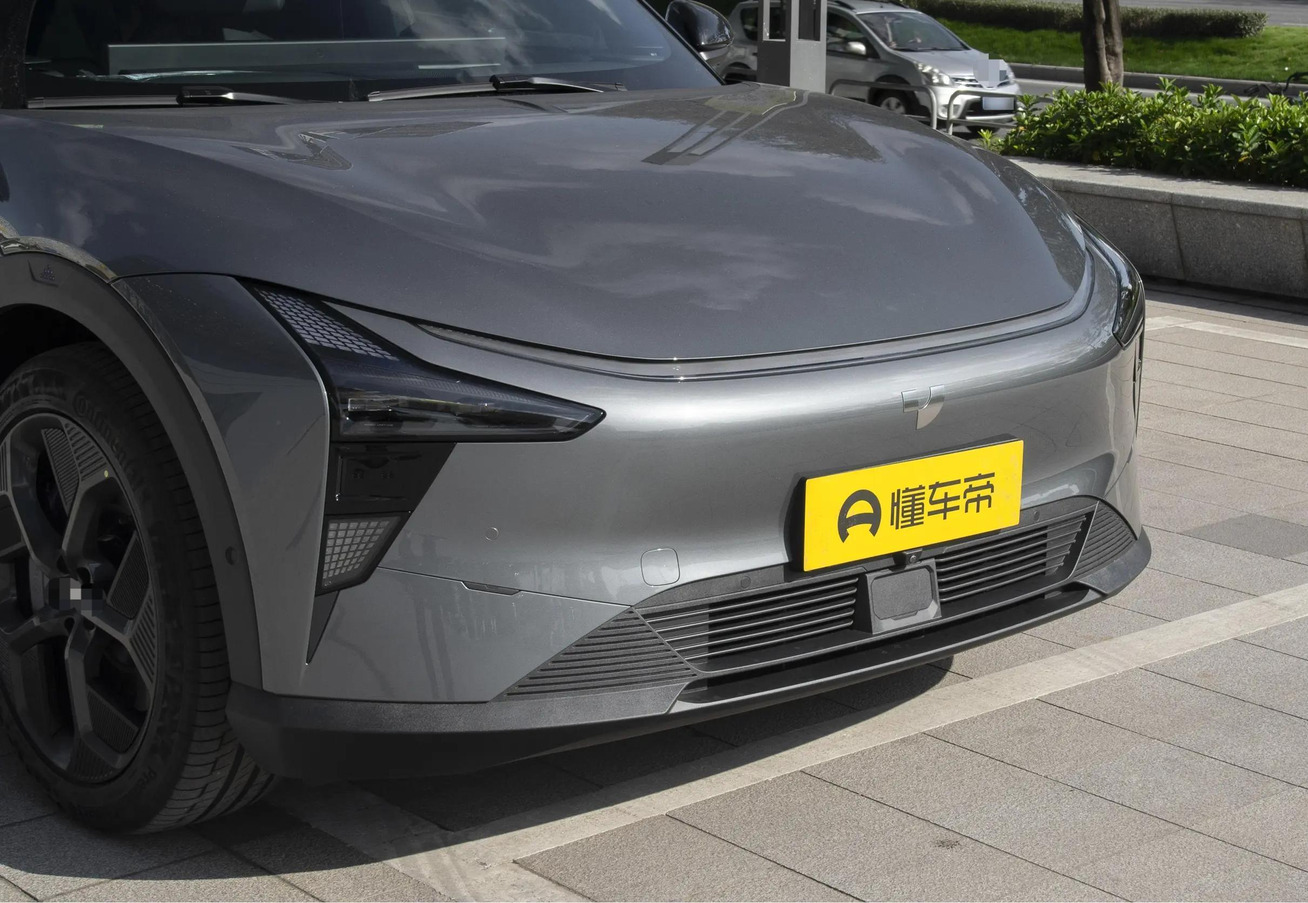JIYUE: (901, 382, 945, 430)
